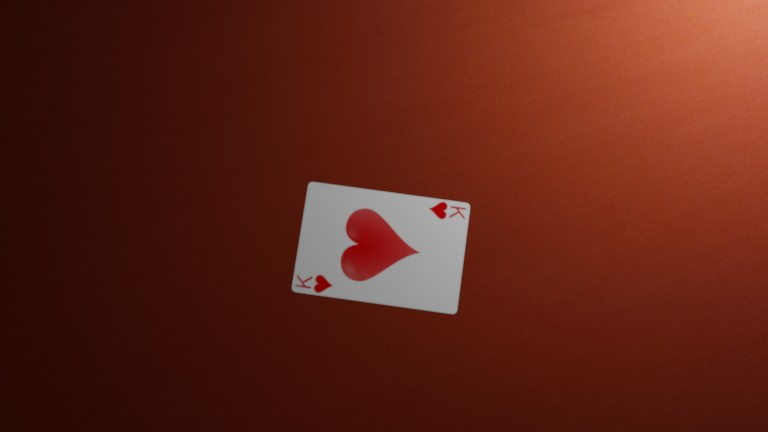king_of_hearts: (294, 270, 335, 296), (427, 199, 467, 224)
